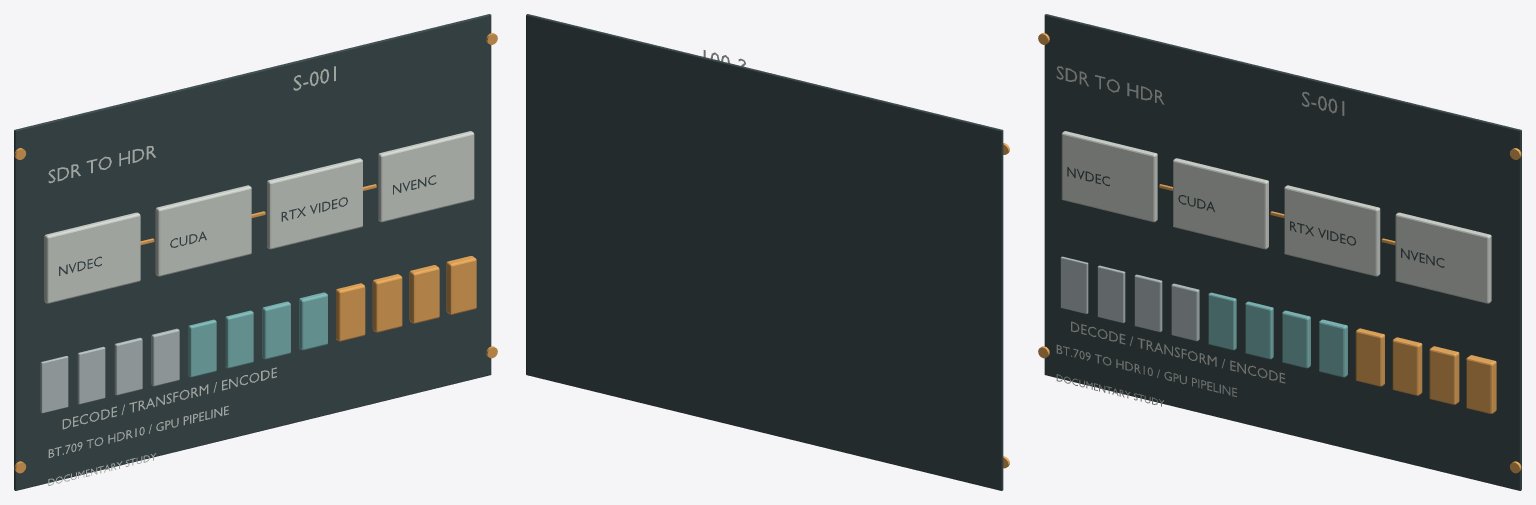
Rendered from sdr-hdr.glb.
3 views of the same model, side by side, from view 1: azimuth 30°, elevation 25°; view 2: azimuth 150°, elevation 25°; view 3: azimuth 330°, elevation 25° (orthographic).
Visible parts, largest first — view 1: optical-core__Project_Graphite.024, optical-core__Project_Ceramic.020, optical-core__Project_Amber.008, optical-core__Project_Trace.010, optical-core__Project_Silver.012, optical-lenses__Project_Ceramic.024, optical-lenses__Project_Amber.024; view 2: optical-core__Project_Graphite.024; view 3: optical-core__Project_Graphite.024, optical-core__Project_Ceramic.020, optical-core__Project_Amber.008, optical-core__Project_Trace.010, optical-core__Project_Silver.012, optical-lenses__Project_Ceramic.024, optical-lenses__Project_Amber.024.
Part boxes in pixels (x1,y1,x2,y2): optical-core__Project_Graphite.024: (14, 14, 491, 490); optical-core__Project_Ceramic.020: (44, 131, 474, 303); optical-core__Project_Amber.008: (336, 256, 476, 341); optical-core__Project_Trace.010: (188, 292, 327, 377); optical-core__Project_Silver.012: (40, 328, 179, 413); optical-lenses__Project_Ceramic.024: (48, 66, 335, 485); optical-lenses__Project_Amber.024: (14, 33, 497, 473); optical-core__Project_Graphite.024: (526, 14, 1003, 490); optical-core__Project_Graphite.024: (1044, 14, 1521, 490); optical-core__Project_Ceramic.020: (1061, 131, 1491, 303); optical-core__Project_Amber.008: (1355, 328, 1496, 413); optical-core__Project_Trace.010: (1208, 292, 1347, 377); optical-core__Project_Silver.012: (1060, 256, 1199, 341); optical-lenses__Project_Ceramic.024: (1056, 66, 1344, 406); optical-lenses__Project_Amber.024: (1038, 33, 1521, 473).
Size of the model in its own units: 4.17 by 2.98 by 0.1795.
